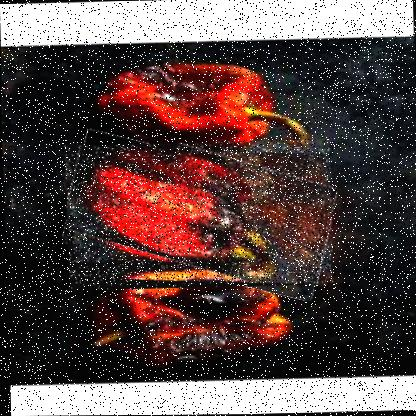capsicum_rotten: (61, 139, 332, 291)
